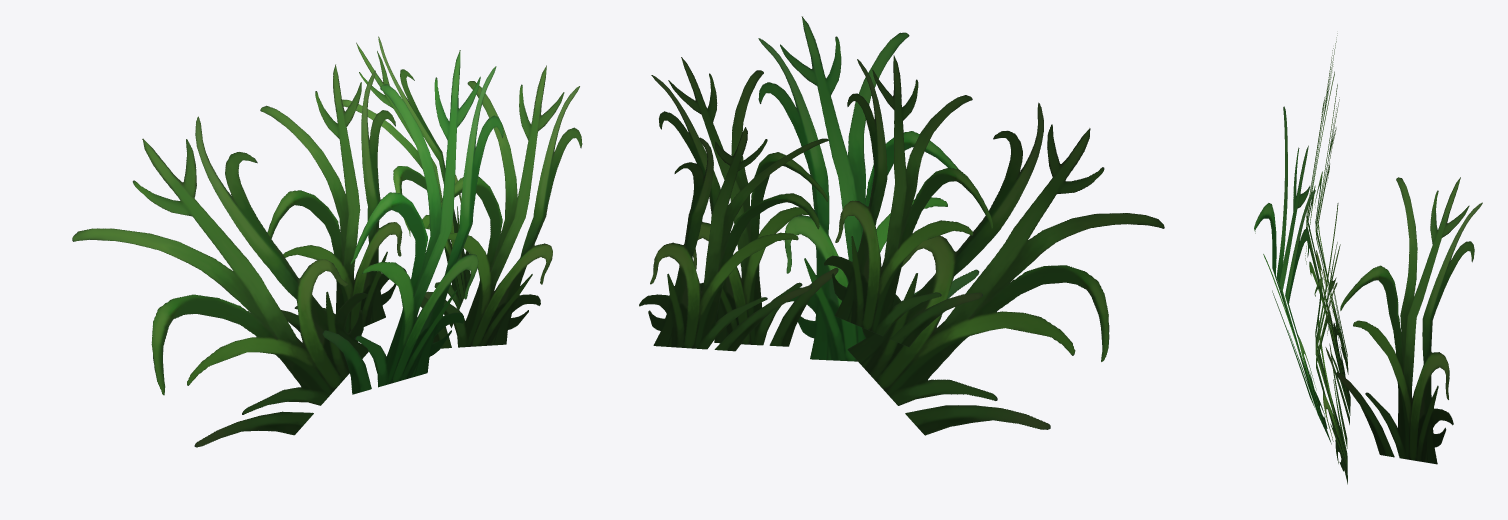
Rendered from sl_cao05.FBX.
The picture shows the model from 3 angles, left to right: view 1: azimuth 30°, elevation 25°; view 2: azimuth 150°, elevation 25°; view 3: azimuth 270°, elevation 25°; orthographic projection. The views are drawn at different scales.
Visible parts, largest first — view 1: sl_cao22, sl_cao23; view 2: sl_cao22, sl_cao23; view 3: sl_cao22, sl_cao23.
Part boxes in pixels (bbox=[...]): sl_cao22: bbox=[72, 36, 582, 447]; sl_cao23: bbox=[322, 50, 503, 394]; sl_cao22: bbox=[639, 55, 1164, 435]; sl_cao23: bbox=[758, 16, 979, 361]; sl_cao22: bbox=[1305, 33, 1482, 484]; sl_cao23: bbox=[1254, 106, 1331, 444].
Bounding box in the file's own units: 348 × 250 × 135.
